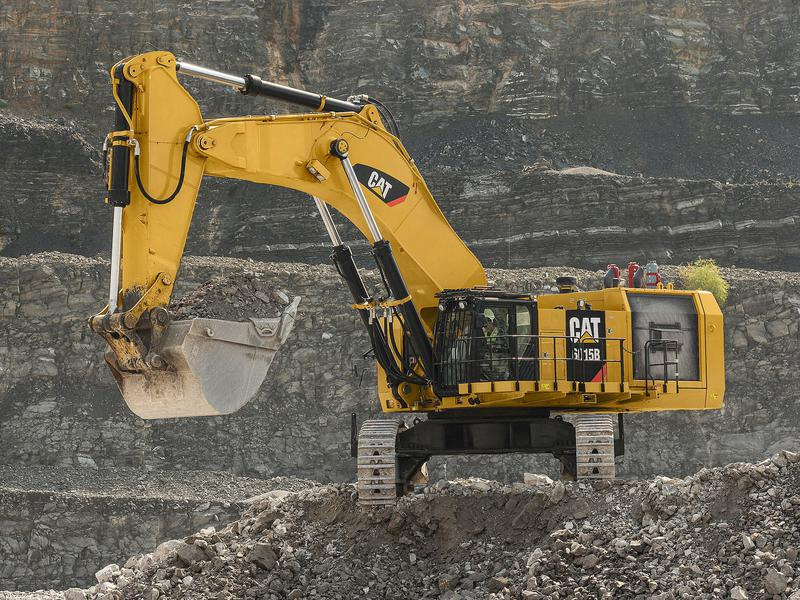shovel: (87, 44, 737, 522)
